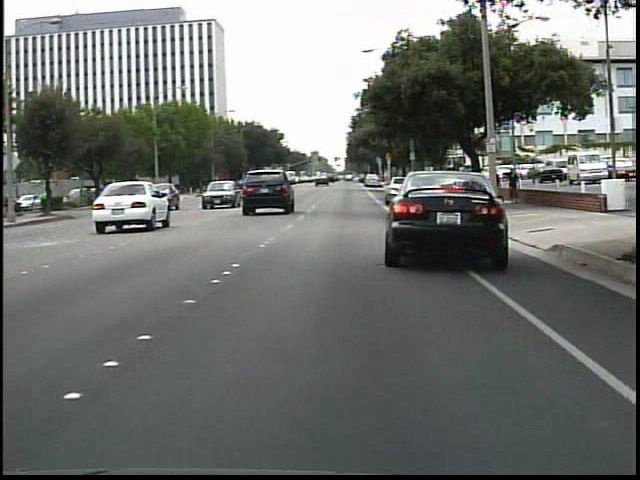person: (505, 164, 523, 207), (490, 167, 505, 205)
